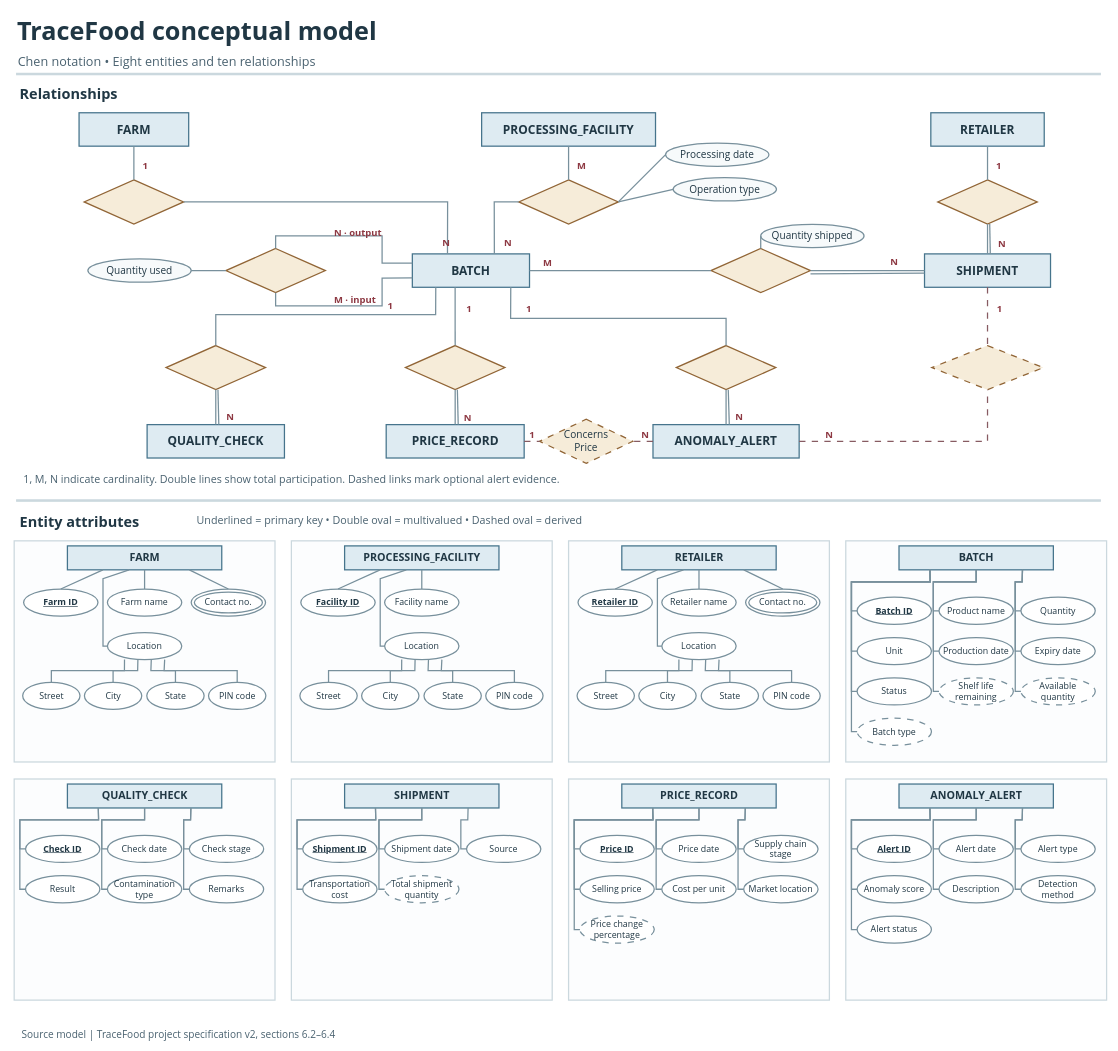
Some shapes in this 1118 by 1051 pixel diagram are drawn without their labels. The shapes that lost their labels are listed below. From the top down, each one's centre as x and y in pixels, then its label:
At point 133,201: "Produces".
At point 568,201: "Processes".
At point 987,201: "Receives".
At point 275,270: "Derived_From".
At point 760,270: "Included_In".
At point 215,367: "Undergoes".
At point 454,367: "Has".
At point 725,367: "Triggers".
At point 987,367: "Concerns Shipment".
